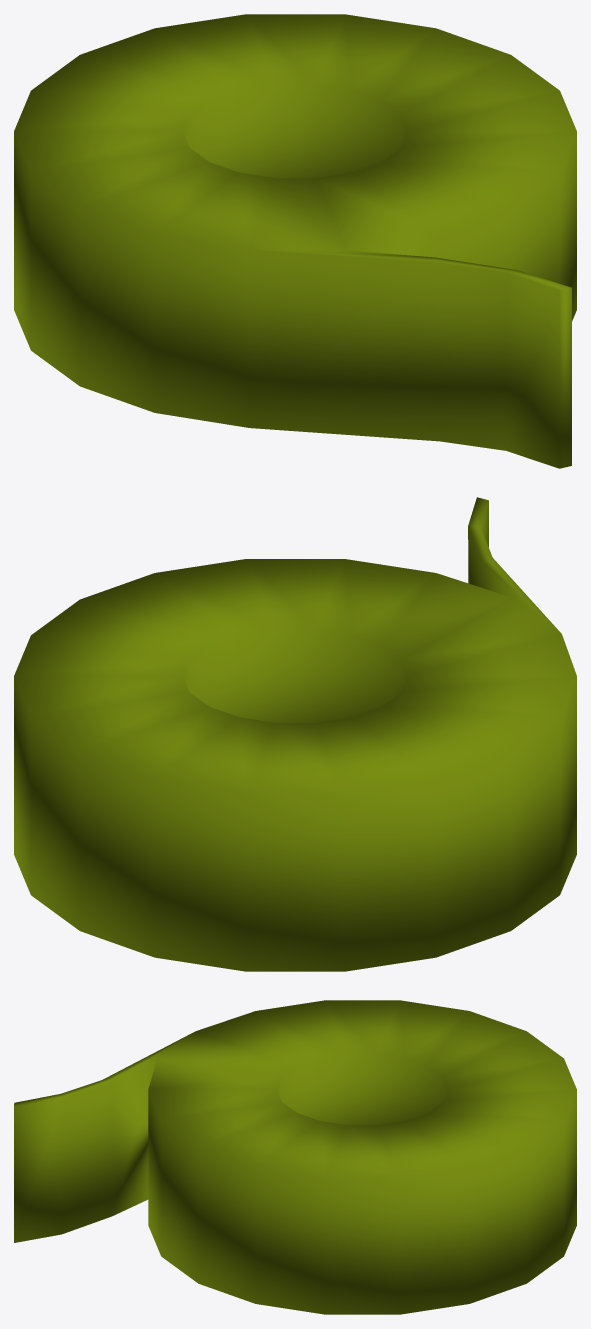
The model's file is Tape.obj.
3 views of the same model, one above another, from view 1: azimuth 30°, elevation 25°; view 2: azimuth 150°, elevation 25°; view 3: azimuth 270°, elevation 25° (orthographic). The views are drawn at different scales.
Visible parts, largest first — view 1: Tape; view 2: Tape; view 3: Tape.
Boxes of the visible parts, left/top/right/bottom form: Tape: left=14, top=14, right=576, bottom=468; Tape: left=14, top=497, right=576, bottom=971; Tape: left=14, top=1000, right=576, bottom=1314.
Size of the model in its own units: 9.76 by 3.51 by 13.02.
